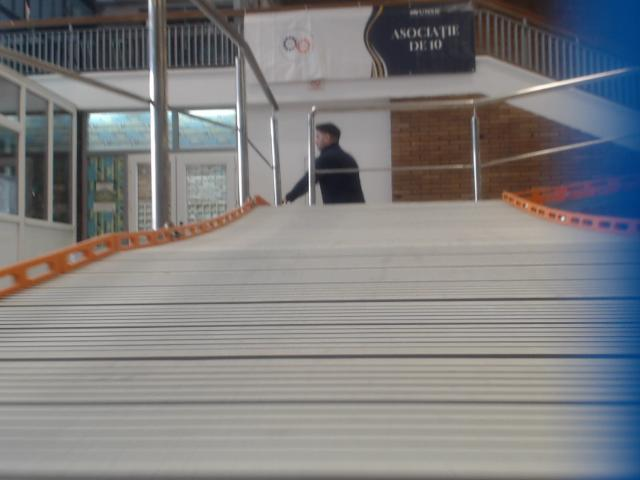rampUp: (0, 192, 639, 479)
ramps-railing: (308, 110, 625, 205), (313, 68, 637, 113), (194, 0, 261, 201), (0, 45, 153, 103), (148, 0, 170, 229), (168, 107, 239, 138), (271, 111, 283, 206), (248, 140, 274, 169)
